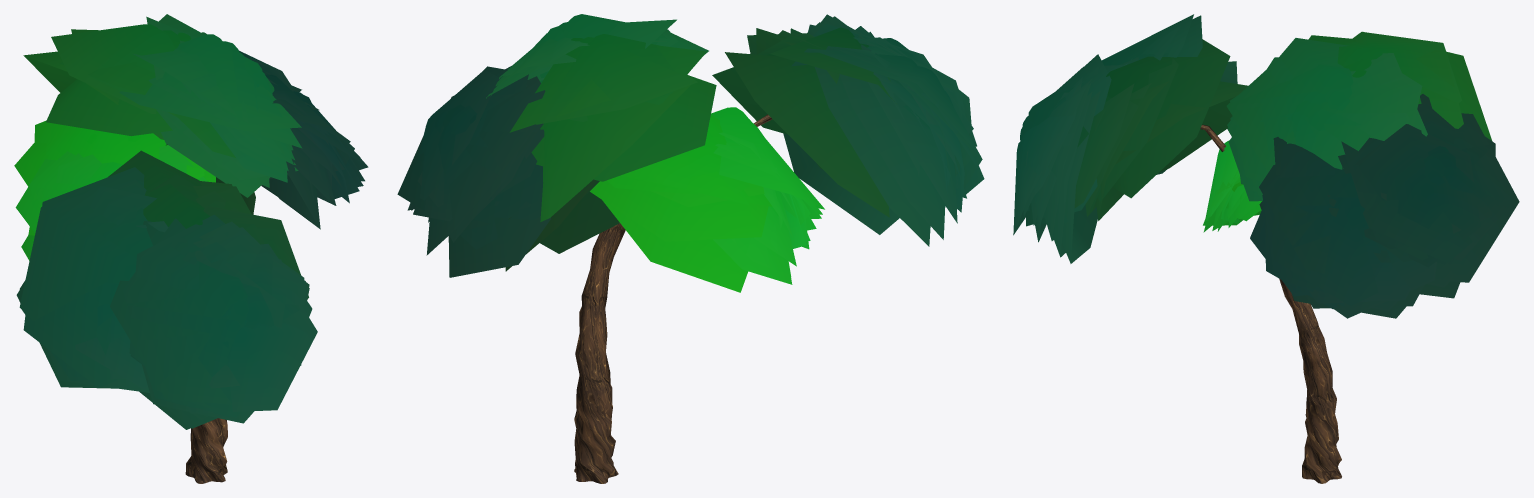
File: FantasyTree12.fbx
3 renders of one model, left to right at view 1: azimuth 30°, elevation 25°; view 2: azimuth 150°, elevation 25°; view 3: azimuth 270°, elevation 25°, orthographic. The views are drawn at different scales.
Visible parts, largest first — view 1: fantasyleaf1_alpha_1, tree2_0; view 2: fantasyleaf1_alpha_1, tree2_0; view 3: fantasyleaf1_alpha_1, tree2_0.
Part boxes in pixels (x1,y1,x2,y2): fantasyleaf1_alpha_1: (14, 14, 368, 429); tree2_0: (185, 418, 227, 483); fantasyleaf1_alpha_1: (397, 14, 984, 292); tree2_0: (574, 114, 772, 483); fantasyleaf1_alpha_1: (1013, 14, 1519, 318); tree2_0: (1200, 124, 1341, 483).
Size of the model in its own units: 474 by 465 by 519.
1 material, 1 textured.
